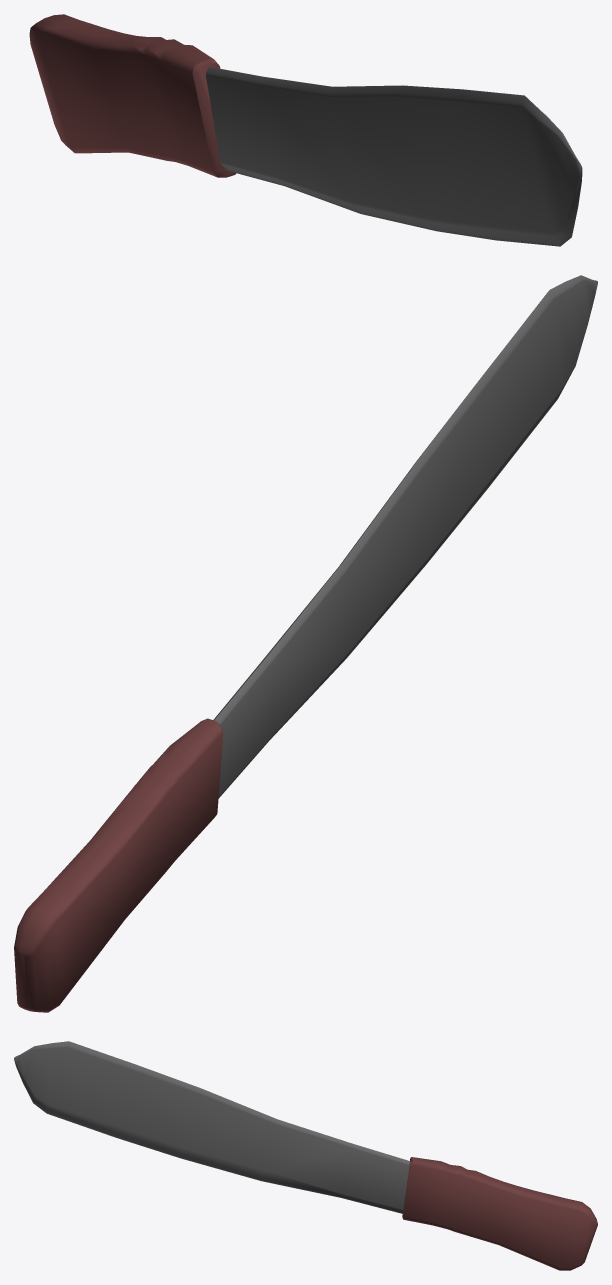
Rendered from machete001.fbx.
3 renders of one model, top to bottom at view 1: azimuth 30°, elevation 25°; view 2: azimuth 150°, elevation 25°; view 3: azimuth 270°, elevation 25°, orthographic. The views are drawn at different scales.
Parts seen in each view (by area): view 1: polySurface2; view 2: polySurface2; view 3: polySurface2.
Boxes of the visible parts, x1,y1,x2,y2 form: polySurface2: (29,14,582,246); polySurface2: (14,275,597,1012); polySurface2: (14,1041,597,1270).
Bounding box in the file's own units: 112 × 613 × 1514.
